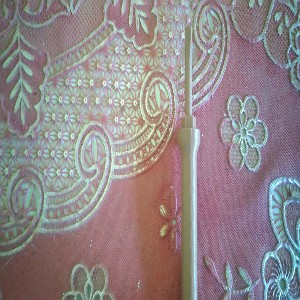obeng: (176, 24, 201, 300)
